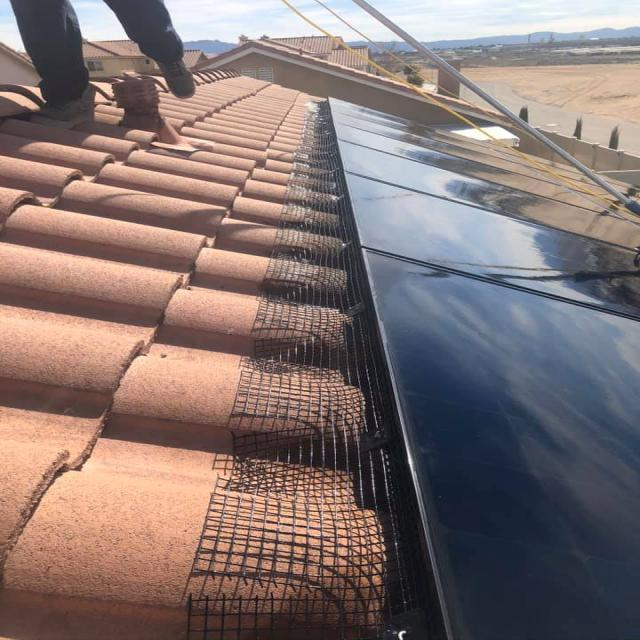clean-solar-panel: (330, 100, 638, 640)
